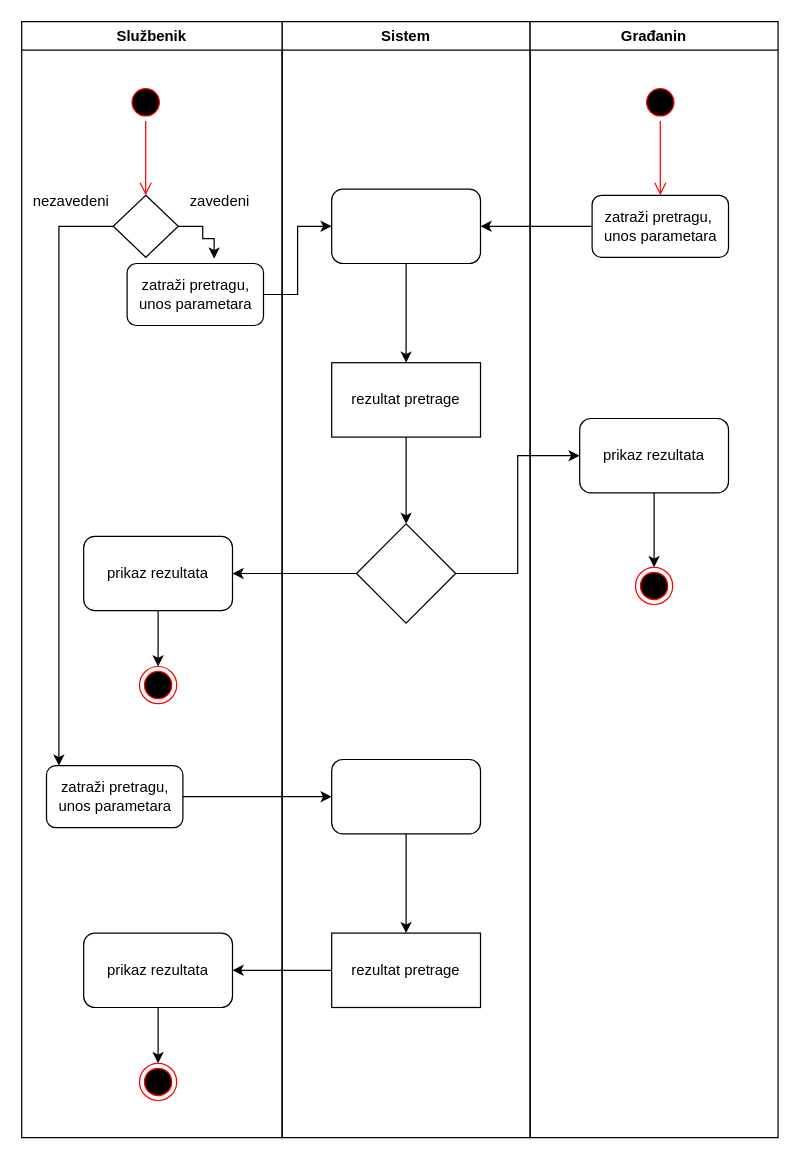
Some shapes in this 800 by 1159 pixel diagram are drawn without their labels. The centre of each missing label's shape, as x and y in pixels:
provera parametara: the point at 405,796
provera validnosti: the point at 405,226
slu/gra: the point at 405,573
vrsta pret.: the point at 145,225
